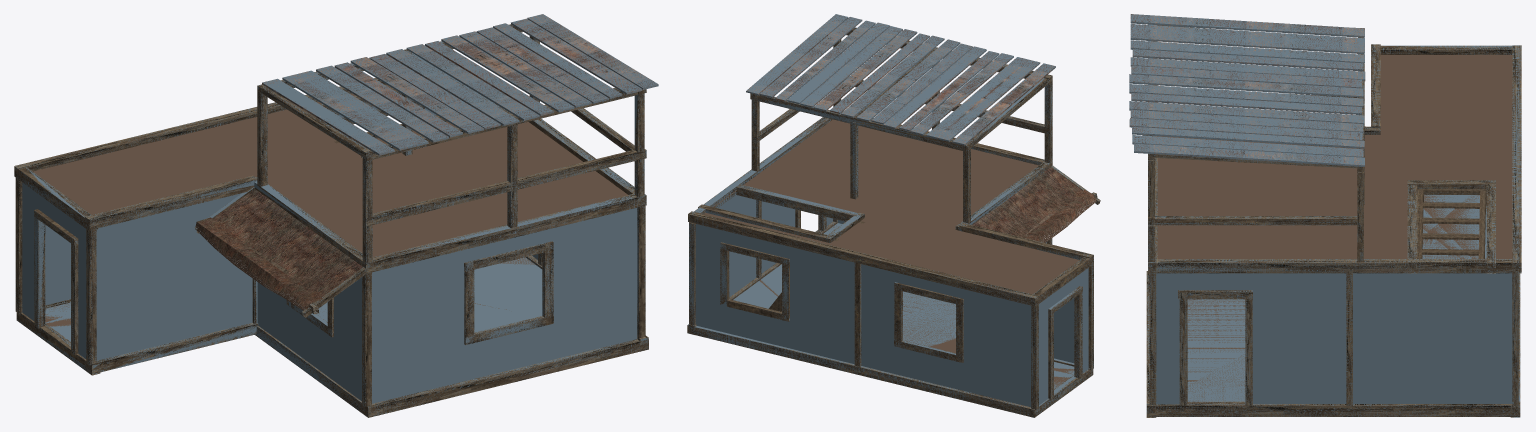
Rendered from Guard_House.fbx.
3 renders of one model, left to right at view 1: azimuth 30°, elevation 25°; view 2: azimuth 150°, elevation 25°; view 3: azimuth 270°, elevation 25°, orthographic. The views are drawn at different scales.
Visible parts, largest first — view 1: Group1; view 2: Group1; view 3: Group1.
Boxes of the visible parts, x1,y1,x2,y2 form: Group1: (14,14,658,417); Group1: (687,14,1100,417); Group1: (1129,14,1521,417).
Size of the model in its own units: 3446 by 1966 by 2601.
